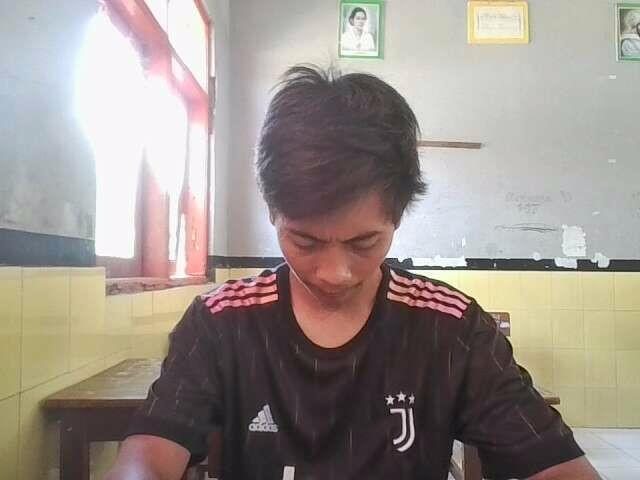good: (86, 59, 619, 480)
